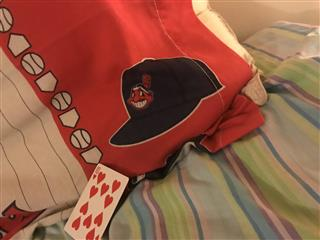TenOfHearts: (63, 162, 129, 240)
